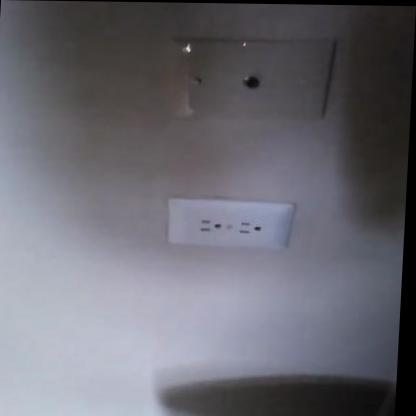OUTLET: (165, 198, 292, 249)
